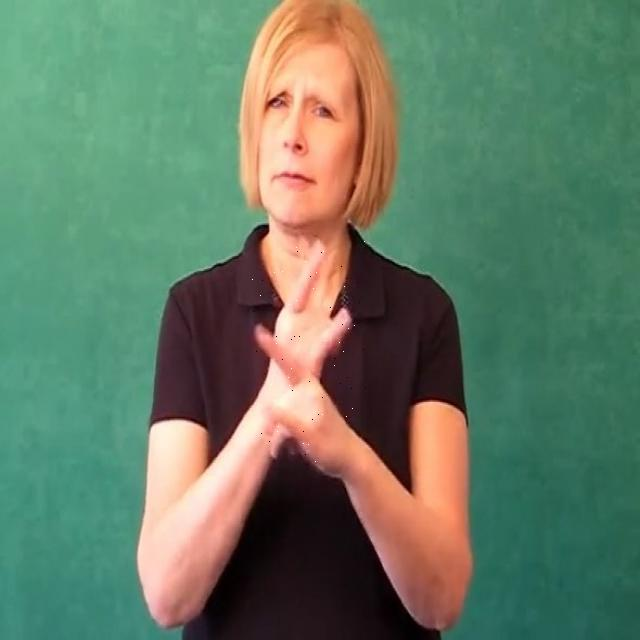alcohol: (252, 234, 368, 480)
